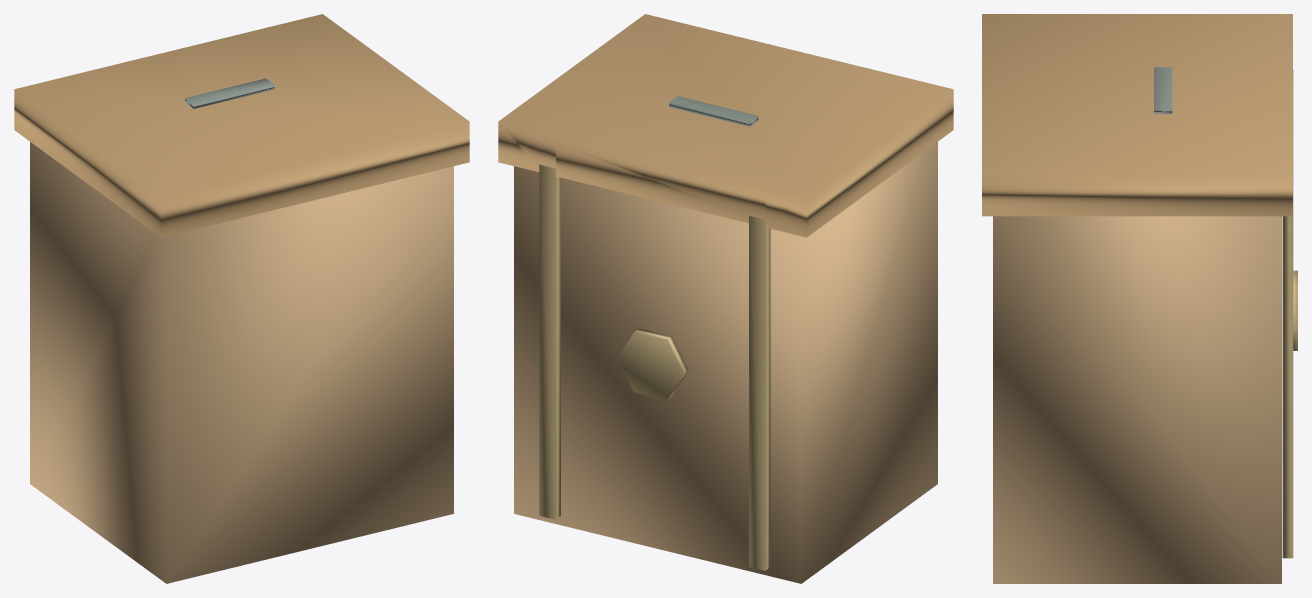
The model's file is donate_low.glb.
3 views of the same model, side by side, from view 1: azimuth 30°, elevation 25°; view 2: azimuth 150°, elevation 25°; view 3: azimuth 270°, elevation 25° (orthographic). The views are drawn at different scales.
Bounding box in the file's own units: 1.03 × 1.27 × 0.863.
